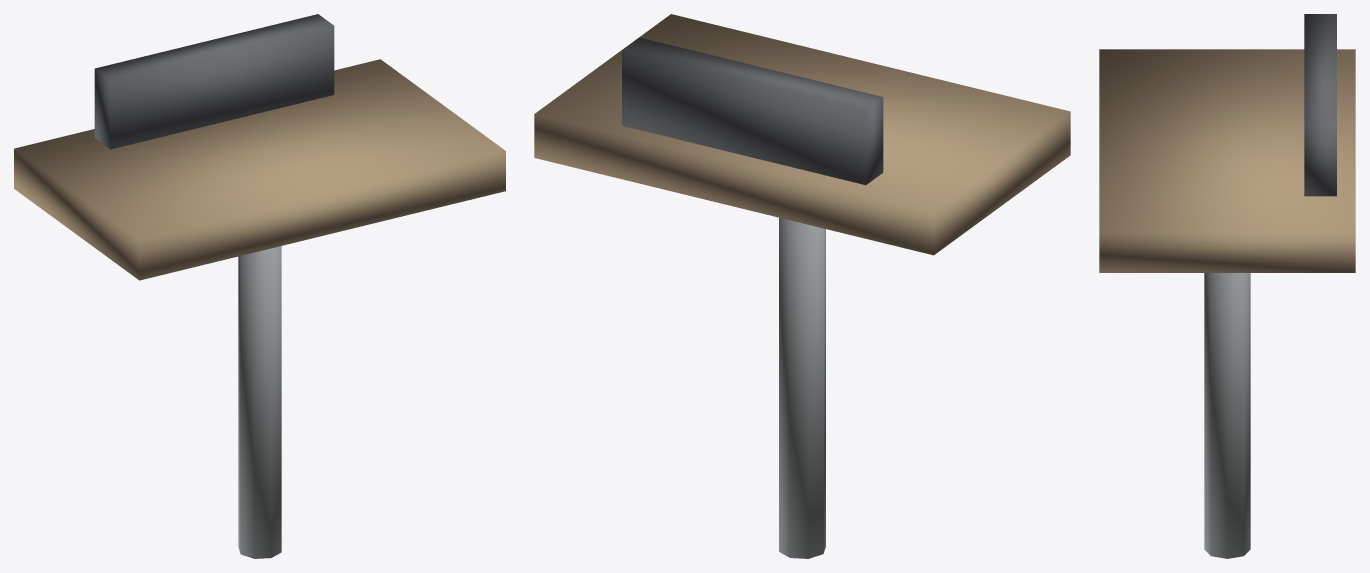
File: deposit_desk__compact.glb
3 renders of one model, left to right at view 1: azimuth 30°, elevation 25°; view 2: azimuth 150°, elevation 25°; view 3: azimuth 270°, elevation 25°, orthographic. The views are drawn at different scales.
Parts seen in each view (by area): view 1: world; view 2: world; view 3: world.
Boxes of the visible parts, box(x1,y1,x2,y2) form: world: box(14, 14, 505, 558); world: box(534, 14, 1070, 558); world: box(1099, 14, 1355, 558).
Size of the model in its own units: 0.798 by 0.9765 by 0.473.
